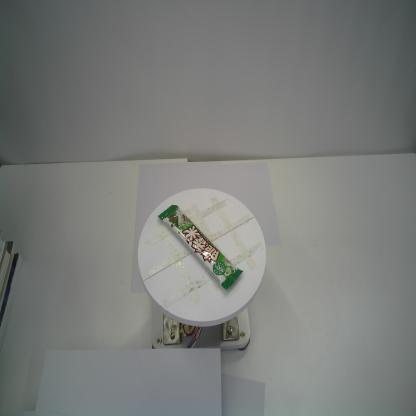Chocolate: (158, 204, 244, 291)
